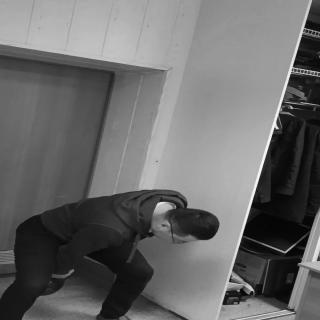girya: (44, 274, 67, 298)
